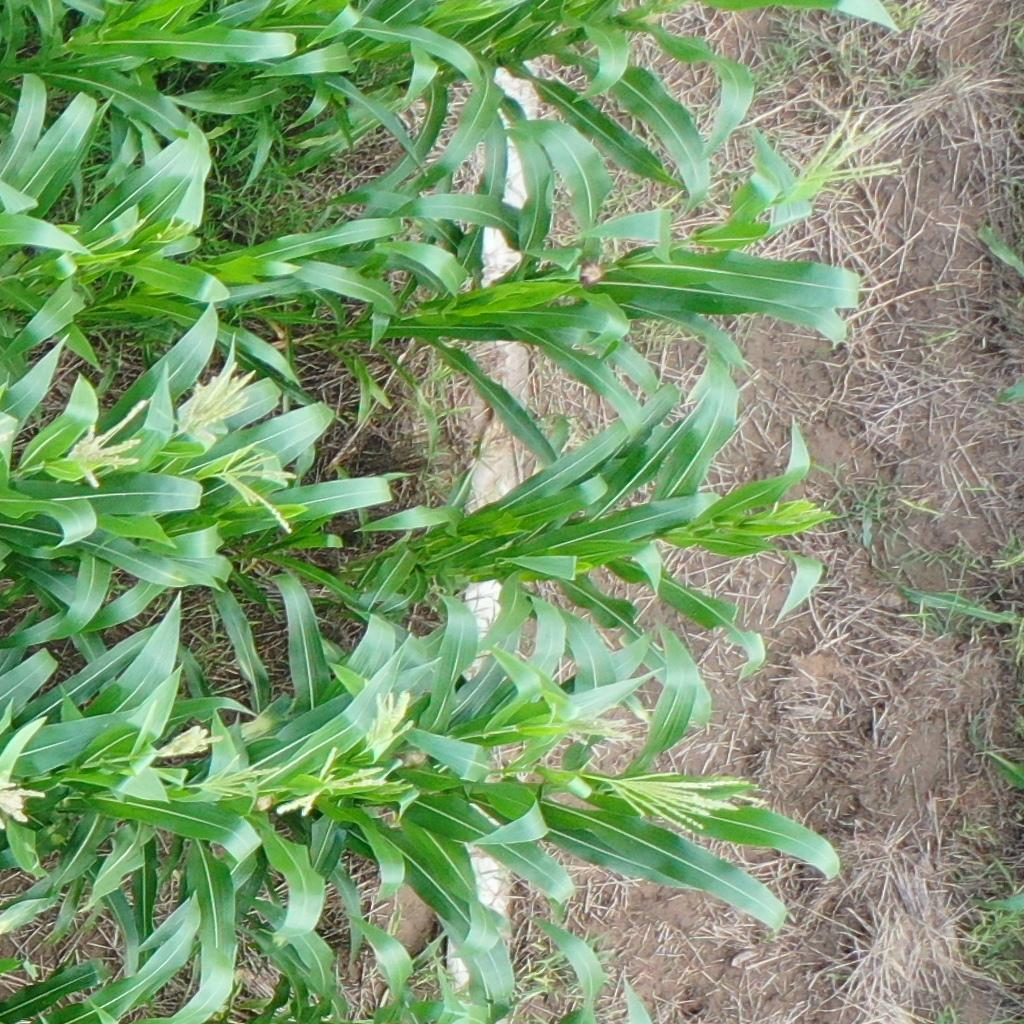Tassel: (788, 104, 903, 201), (606, 763, 752, 839), (278, 746, 386, 822), (216, 442, 298, 537), (64, 398, 146, 490), (176, 361, 259, 446), (197, 753, 278, 812), (548, 701, 638, 749), (361, 688, 416, 756), (151, 724, 224, 762), (1, 777, 45, 832), (764, 500, 819, 530), (161, 219, 192, 241)
